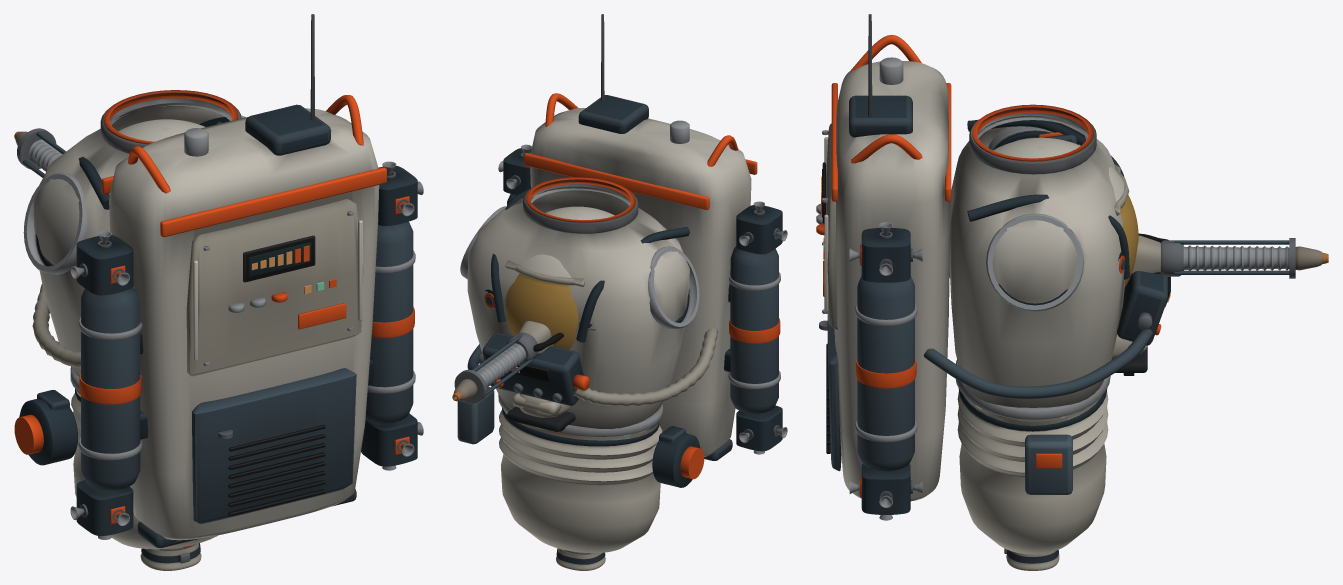
The model's file is astronaut.glb.
The picture shows the model from 3 angles, left to right: view 1: azimuth 30°, elevation 25°; view 2: azimuth 150°, elevation 25°; view 3: azimuth 270°, elevation 25°; orthographic projection. The views are drawn at different scales.
Visible parts, largest first — view 1: torso, tool, sleeve, helmet; view 2: torso, helmet, tool, boot, sleeve; view 3: torso, tool, helmet, sleeve, boot.
Part boxes in pixels (<box>): torso: <box>14,14,423,549</box>; tool: <box>14,128,65,177</box>; sleeve: <box>140,543,201,570</box>; helmet: <box>118,119,221,141</box>; torso: <box>457,14,787,553</box>; helmet: <box>505,206,614,349</box>; tool: <box>452,321,563,403</box>; boot: <box>507,393,575,431</box>; sleeve: <box>556,548,605,570</box>; torso: <box>816,14,1170,554</box>; tool: <box>1124,233,1328,290</box>; helmet: <box>949,132,1138,287</box>; sleeve: <box>1004,548,1059,570</box>; boot: <box>1111,335,1147,375</box>.
Bounding box in the file's own units: 0.723 × 1.18 × 0.96.
